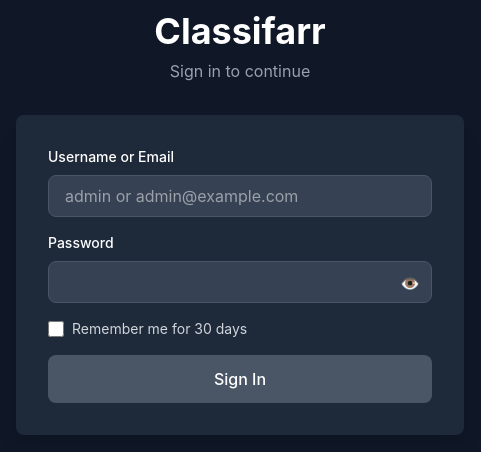
Login.vue › rendering › submit button is enabled when both fields are filled
Type "admin" into the field with placeholder "admin or admin@example.com".
click(240, 196); type("admin")  # box top-left (48, 175), bottom-right (432, 217)
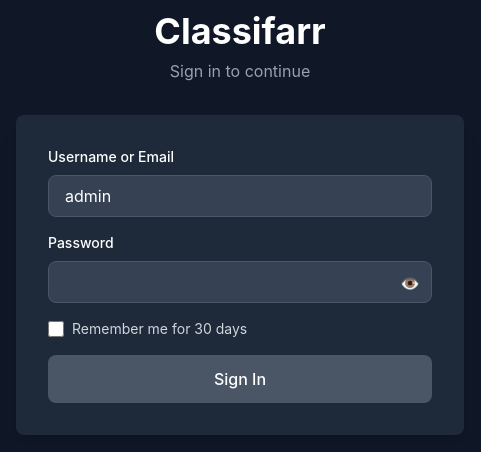
Type "Password1!" into the password field.
click(240, 282); type("Password1!")  # box top-left (48, 261), bottom-right (432, 303)
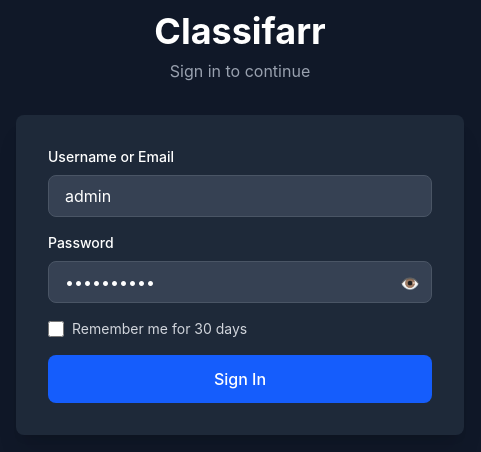
Check: the submit button is enabled, box top-left (48, 355), bottom-right (432, 403)
